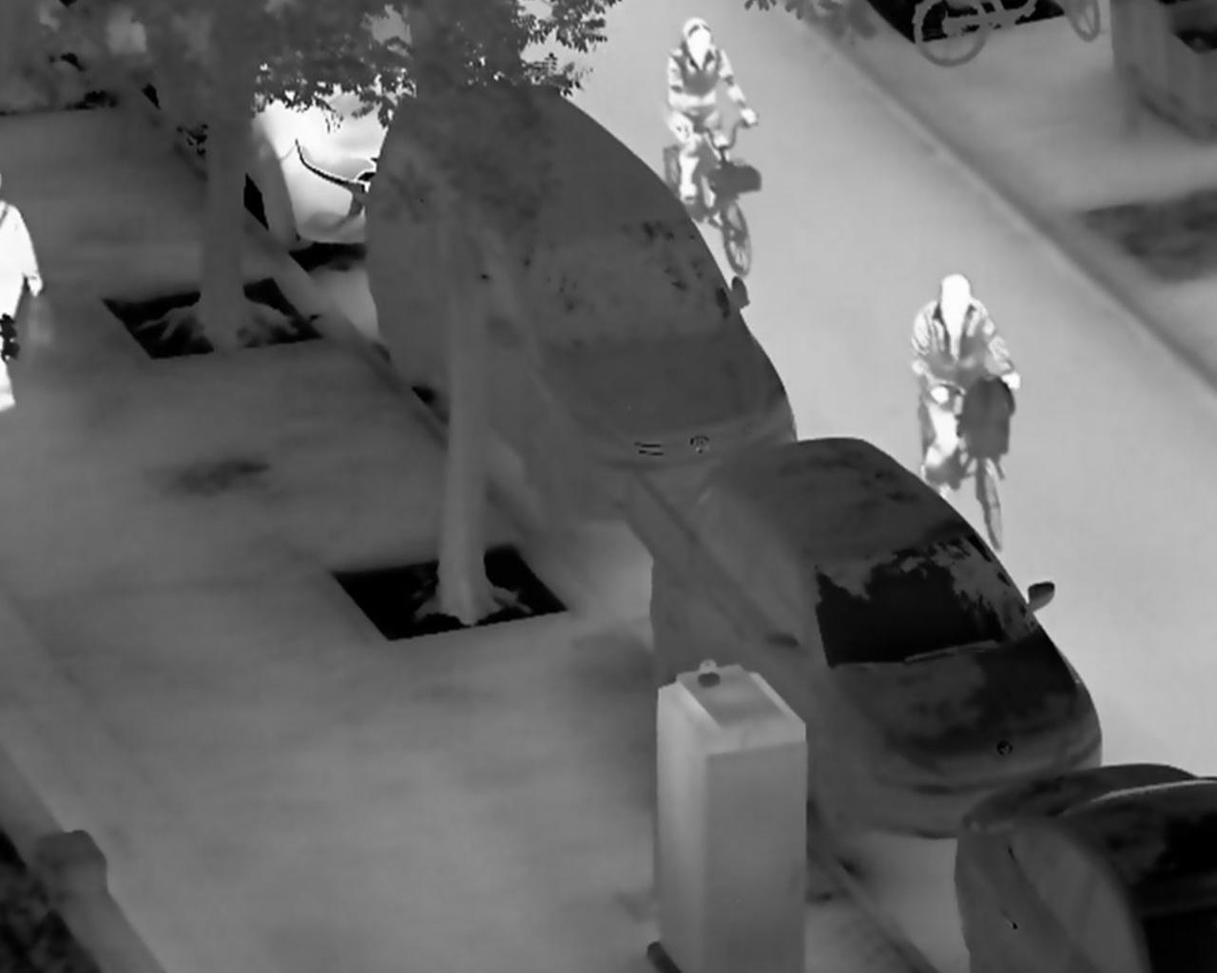person: (909, 275, 1021, 485), (665, 18, 762, 211)
